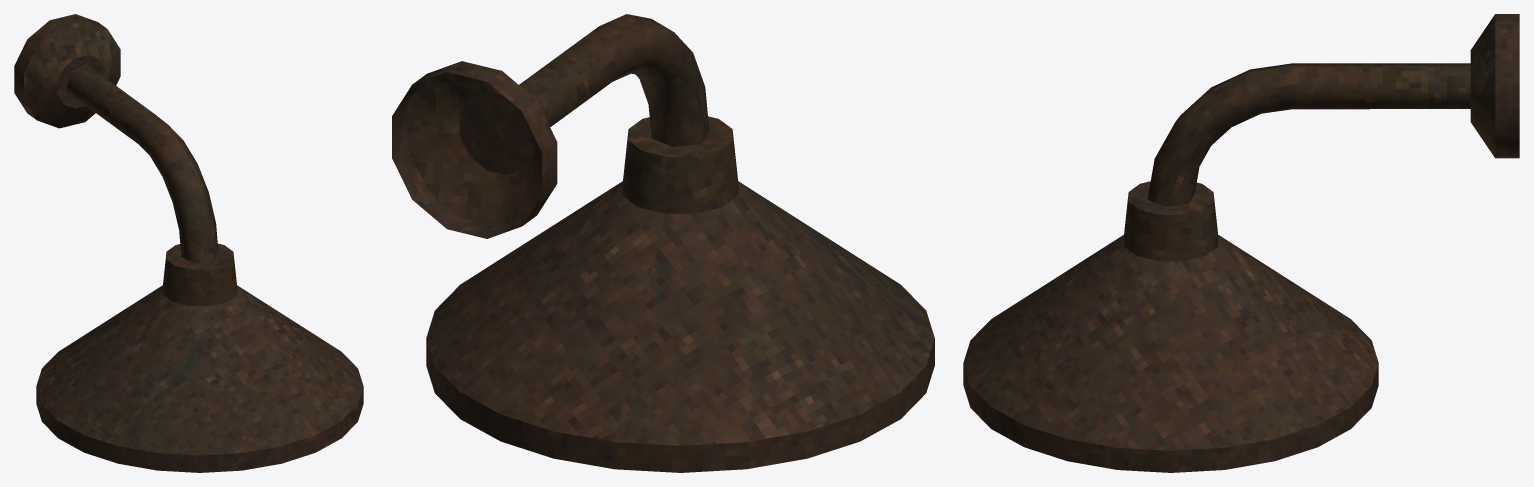
Rendered from lamp_mx_2_off.glb.
3 renders of one model, left to right at view 1: azimuth 30°, elevation 25°; view 2: azimuth 150°, elevation 25°; view 3: azimuth 270°, elevation 25°, orthographic. The views are drawn at different scales.
Parts seen in each view (by area): view 1: lamp_mx_2_off; view 2: lamp_mx_2_off; view 3: lamp_mx_2_off.
Boxes of the visible parts, x1,y1,x2,y2 form: lamp_mx_2_off: (14, 14, 363, 472); lamp_mx_2_off: (392, 14, 934, 472); lamp_mx_2_off: (963, 14, 1519, 472).
Size of the model in its own units: 0.357 by 0.3682 by 0.478.
Materials: 2 (2 with a texture image).
